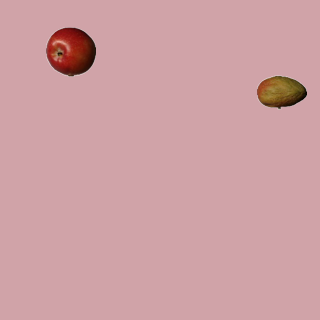Apple Braeburn: (45, 26, 95, 76)
Papaya: (256, 67, 306, 117)
